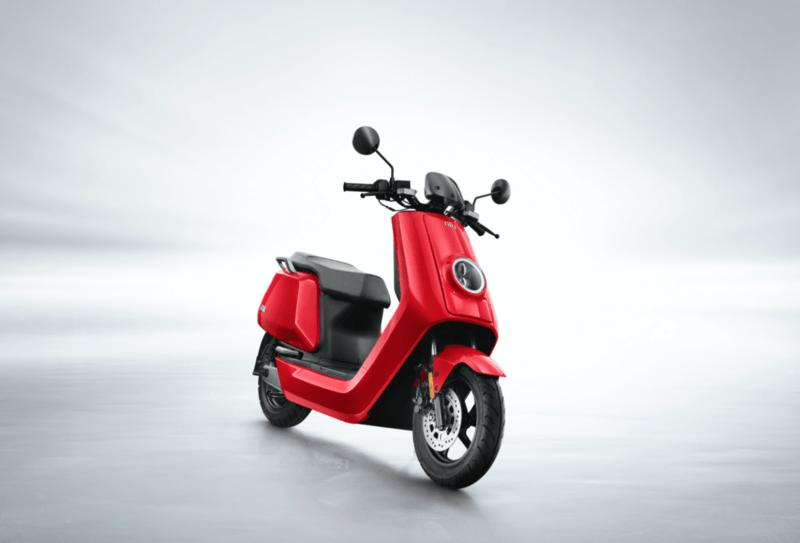电动车: (236, 112, 538, 508)
